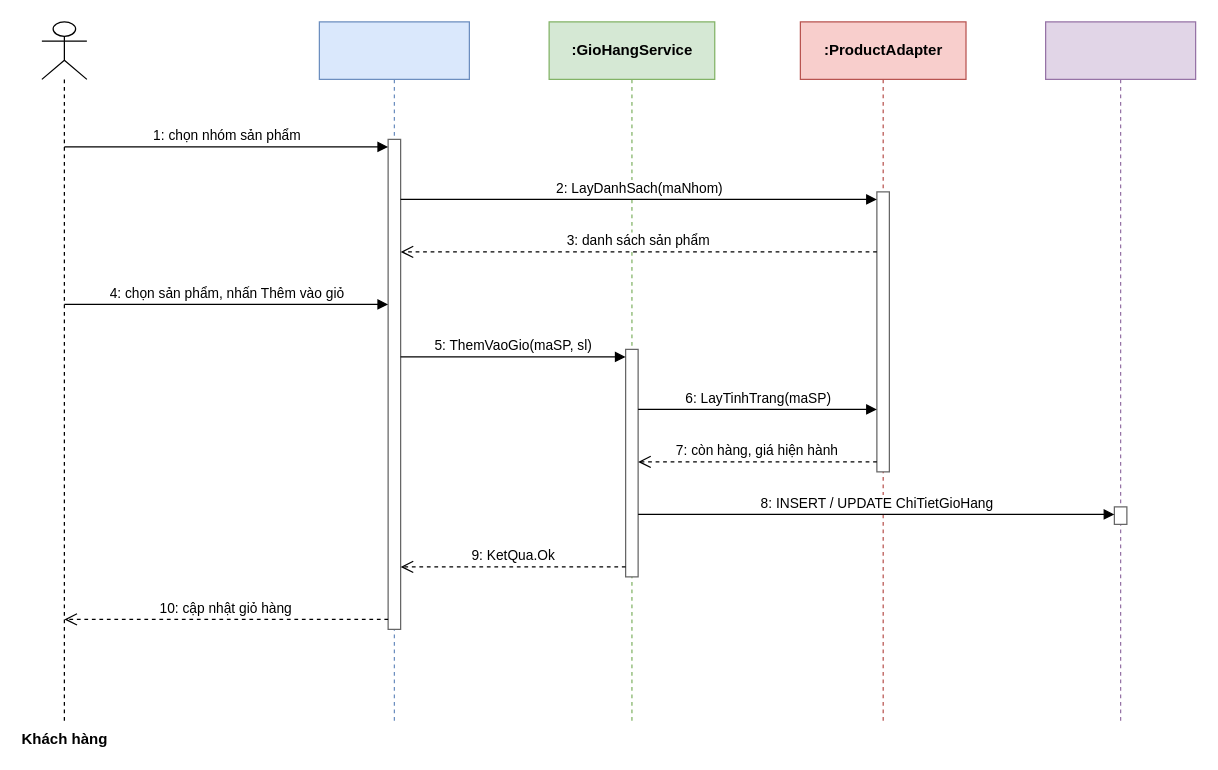
Some shapes in this 1218 by 770 pixel diagram are drawn without their labels. The box of each missing label's shape, as (x1, y1, x2, y2) in pixels:
:CSDL: (1044, 21, 1196, 722)
:FrmSanPham: (318, 21, 469, 722)
